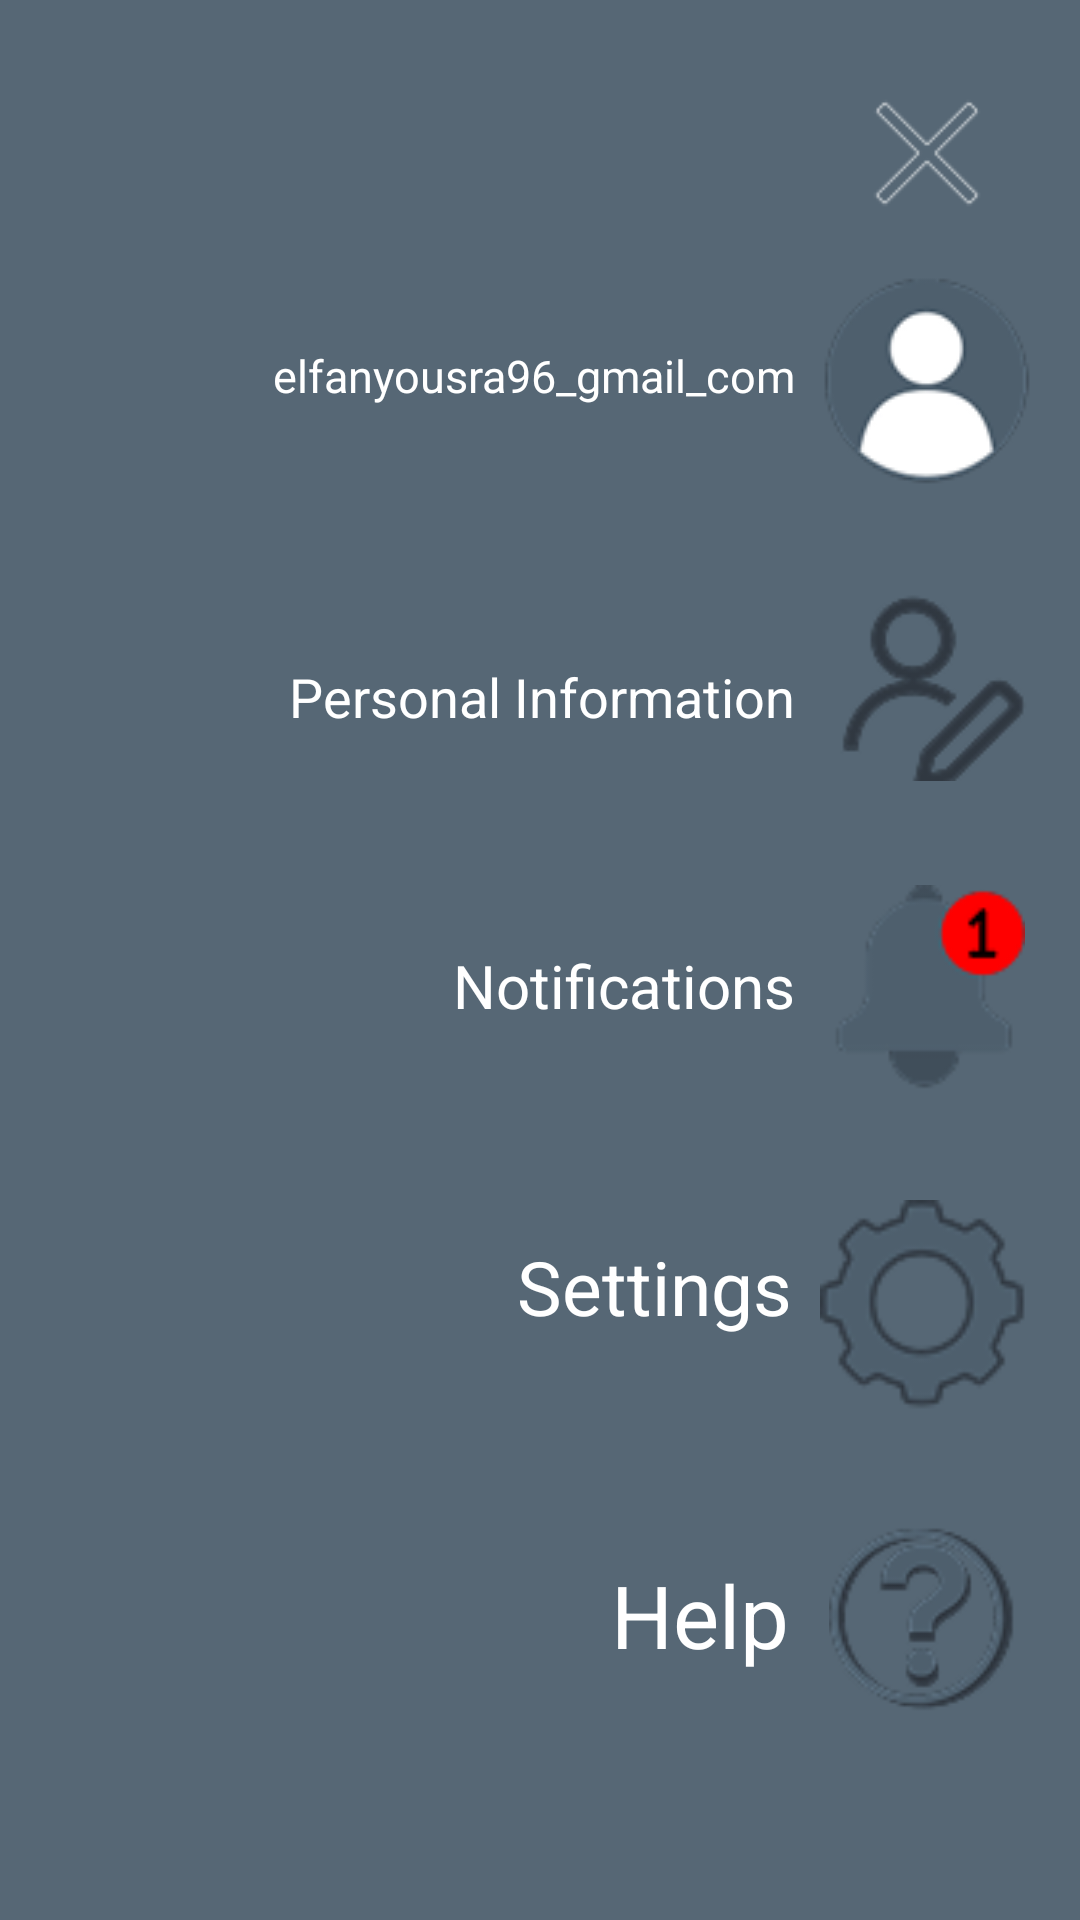

Icons on this 1080 × 1920 Android screen, each with its box as (x1,y1,x2,y2):
close: (876,102,978,204)
imgaccount: (826,310,1028,479)
personnel information: (844,598,1023,781)
